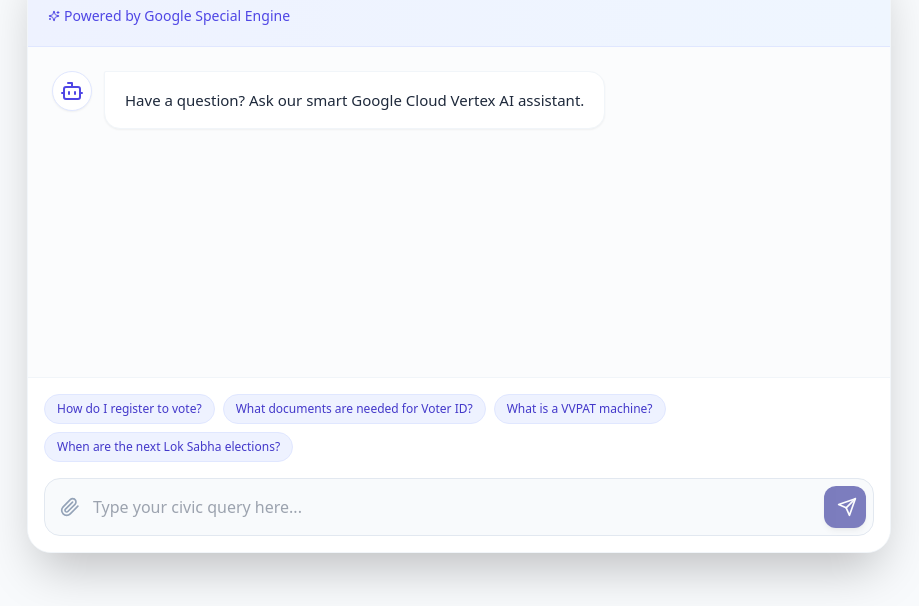
Scenario: Assistant Component › handles API errors gracefully
The image size is (919, 606).
(page scrolled)
Type "Error query" into the field with placeholder "Type your civic query here..." at (459, 507), box [44,478,874,536]
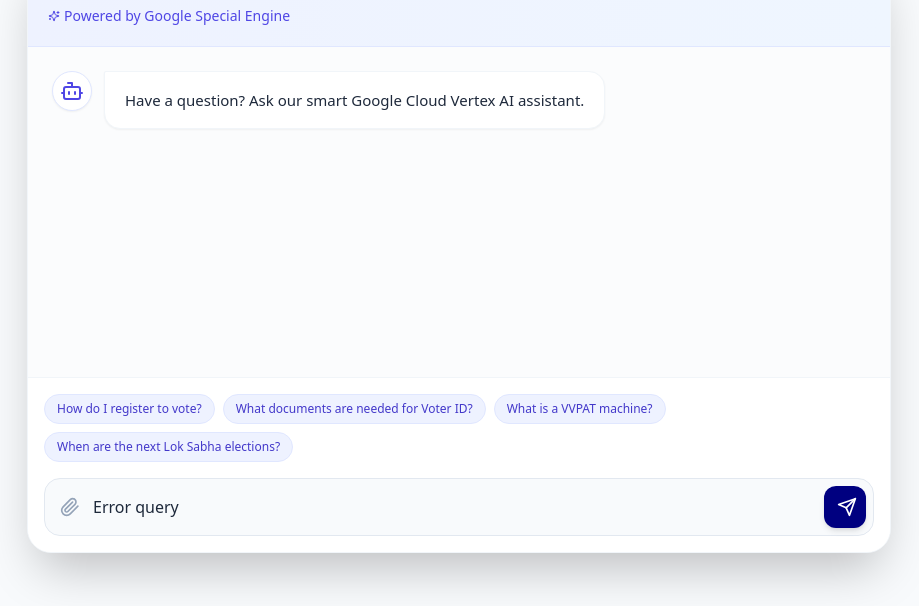
Click the button named "Send message" at (845, 507), box [824,486,866,528]
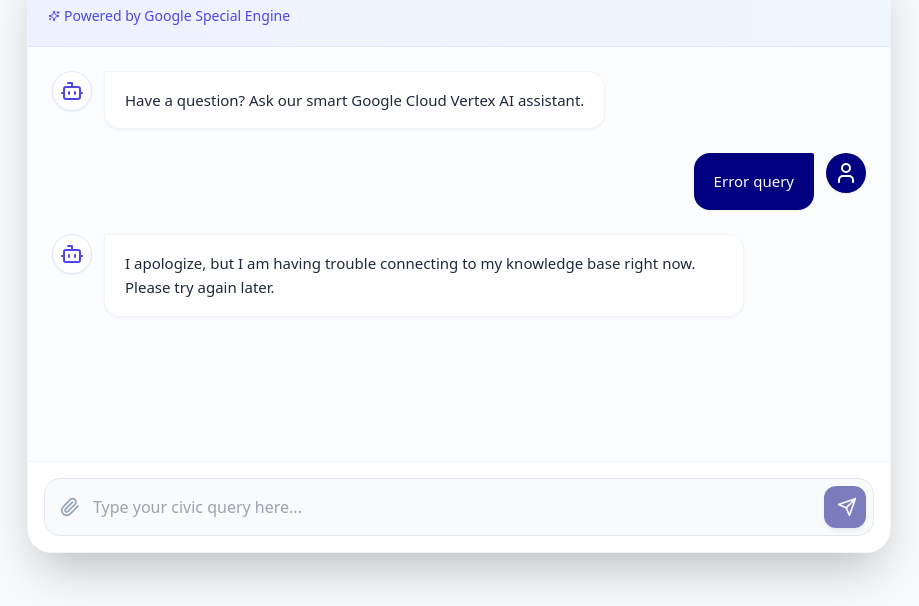
expect the text "I apologize, but I am having trouble connecting" is shown: met, box [125,253,695,297]
